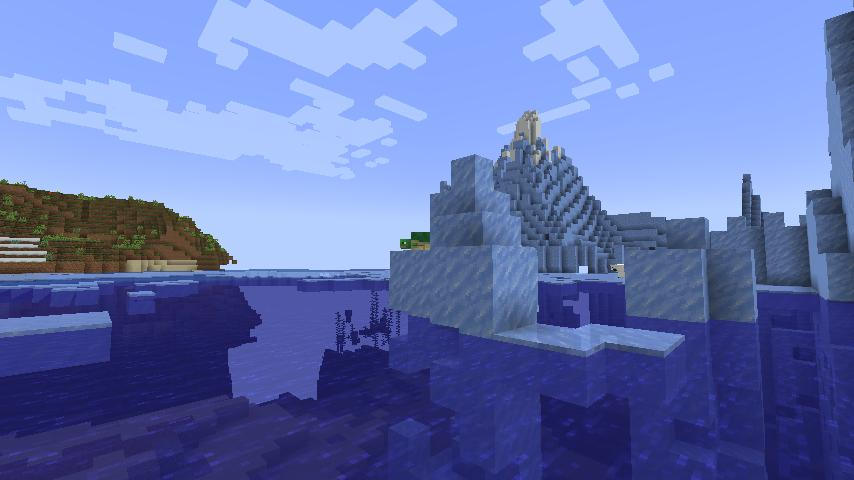turtle: (400, 226, 433, 256)
